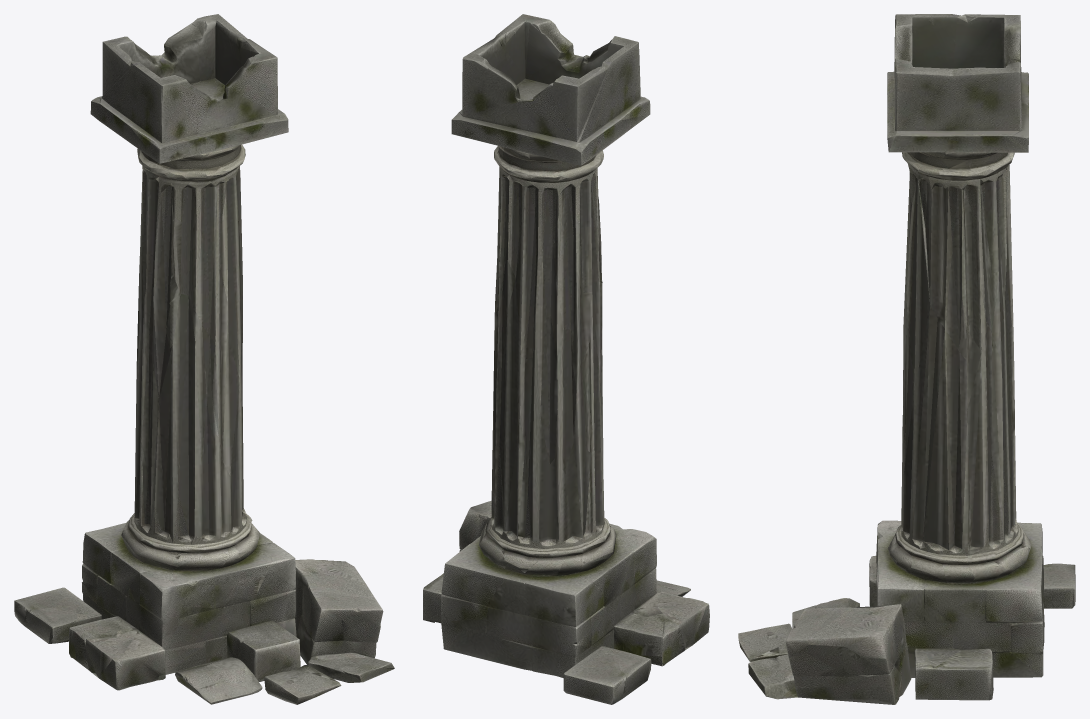
The model's file is pillar.glb.
The picture shows the model from 3 angles, left to right: view 1: azimuth 30°, elevation 25°; view 2: azimuth 150°, elevation 25°; view 3: azimuth 270°, elevation 25°; orthographic projection. The views are drawn at different scales.
Bounding box in the file's own units: 0.8391 × 1.9 × 0.9678.
1 material, 1 textured.
